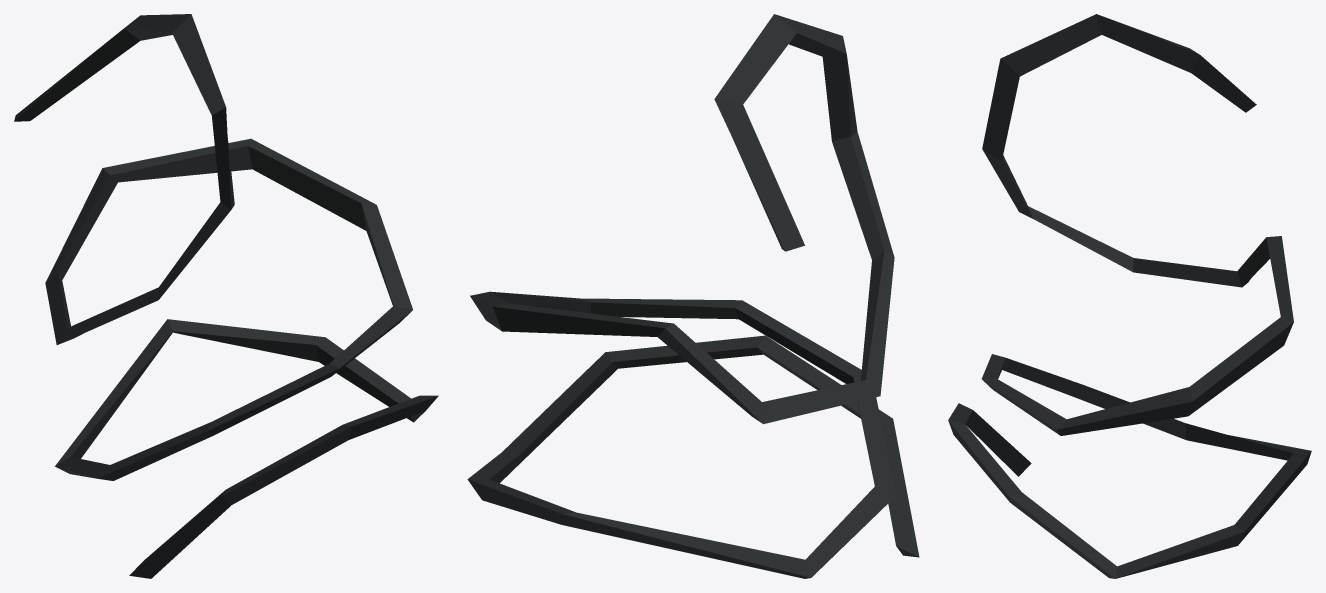
Rendered from SM_Prop_Powerline_Bundle_02.glb.
3 renders of one model, left to right at view 1: azimuth 30°, elevation 25°; view 2: azimuth 150°, elevation 25°; view 3: azimuth 270°, elevation 25°, orthographic. The views are drawn at different scales.
Parts seen in each view (by area): view 1: SM_Prop_Powerline_Bundle_02; view 2: SM_Prop_Powerline_Bundle_02; view 3: SM_Prop_Powerline_Bundle_02.
Part boxes in pixels (x1,y1,x2,y2): SM_Prop_Powerline_Bundle_02: (14,14,438,578); SM_Prop_Powerline_Bundle_02: (467,14,919,578); SM_Prop_Powerline_Bundle_02: (948,14,1311,578).
Bounding box in the file's own units: 1.01 × 1.37 × 0.9016.
1 material, 1 textured.
